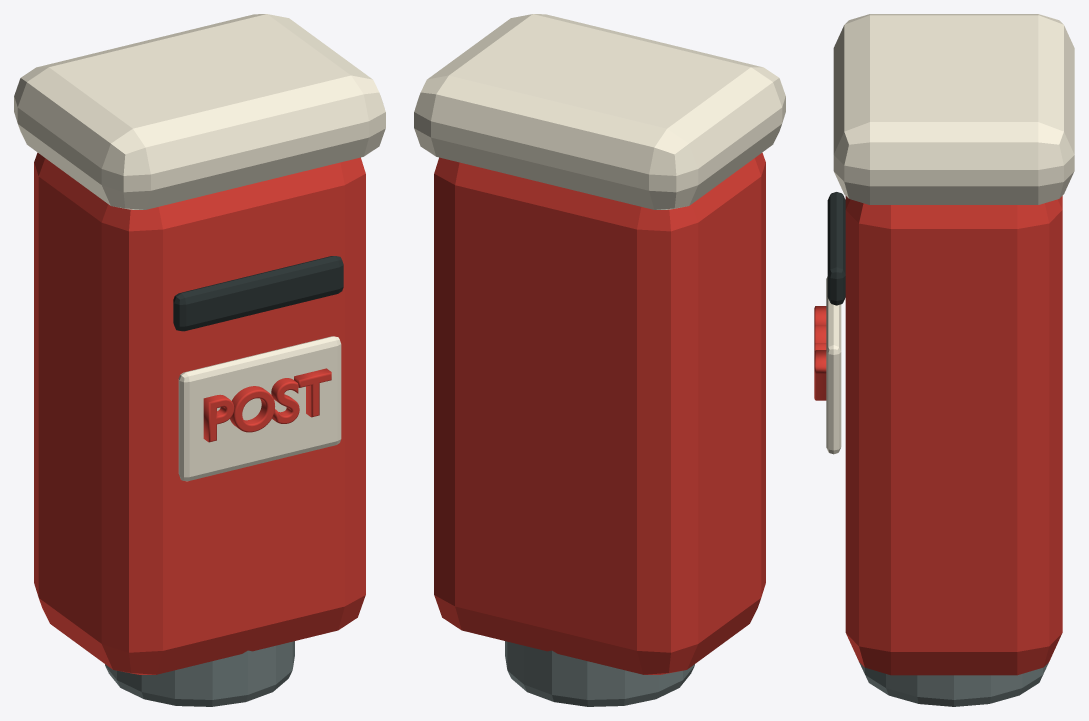
The model's file is postbox-v2.glb.
3 renders of one model, left to right at view 1: azimuth 30°, elevation 25°; view 2: azimuth 150°, elevation 25°; view 3: azimuth 270°, elevation 25°, orthographic.
Visible parts, largest first — view 1: Postbox body, Postbox crown, Collection plate, Postbox foot, Posting slot, Sign POST; view 2: Postbox body, Postbox crown, Postbox foot; view 3: Postbox body, Postbox crown, Postbox foot, Collection plate, Posting slot, Sign POST.
Boxes of the visible parts, left/top/right/bottom form: Postbox body: left=34, top=152, right=365, bottom=674; Postbox crown: left=14, top=14, right=385, bottom=209; Collection plate: left=178, top=336, right=341, bottom=481; Postbox foot: left=105, top=641, right=294, bottom=706; Posting slot: left=173, top=256, right=343, bottom=331; Sign POST: left=203, top=368, right=331, bottom=442; Postbox body: left=434, top=152, right=765, bottom=674; Postbox crown: left=414, top=14, right=785, bottom=209; Postbox foot: left=505, top=641, right=694, bottom=706; Postbox body: left=845, top=196, right=1062, bottom=675; Postbox crown: left=833, top=14, right=1074, bottom=204; Postbox foot: left=859, top=662, right=1048, bottom=706; Collection plate: left=826, top=276, right=841, bottom=454; Posting slot: left=827, top=192, right=845, bottom=305; Sign POST: left=814, top=306, right=826, bottom=400.
Size of the model in its own units: 1.08 by 2.21 by 0.864.
